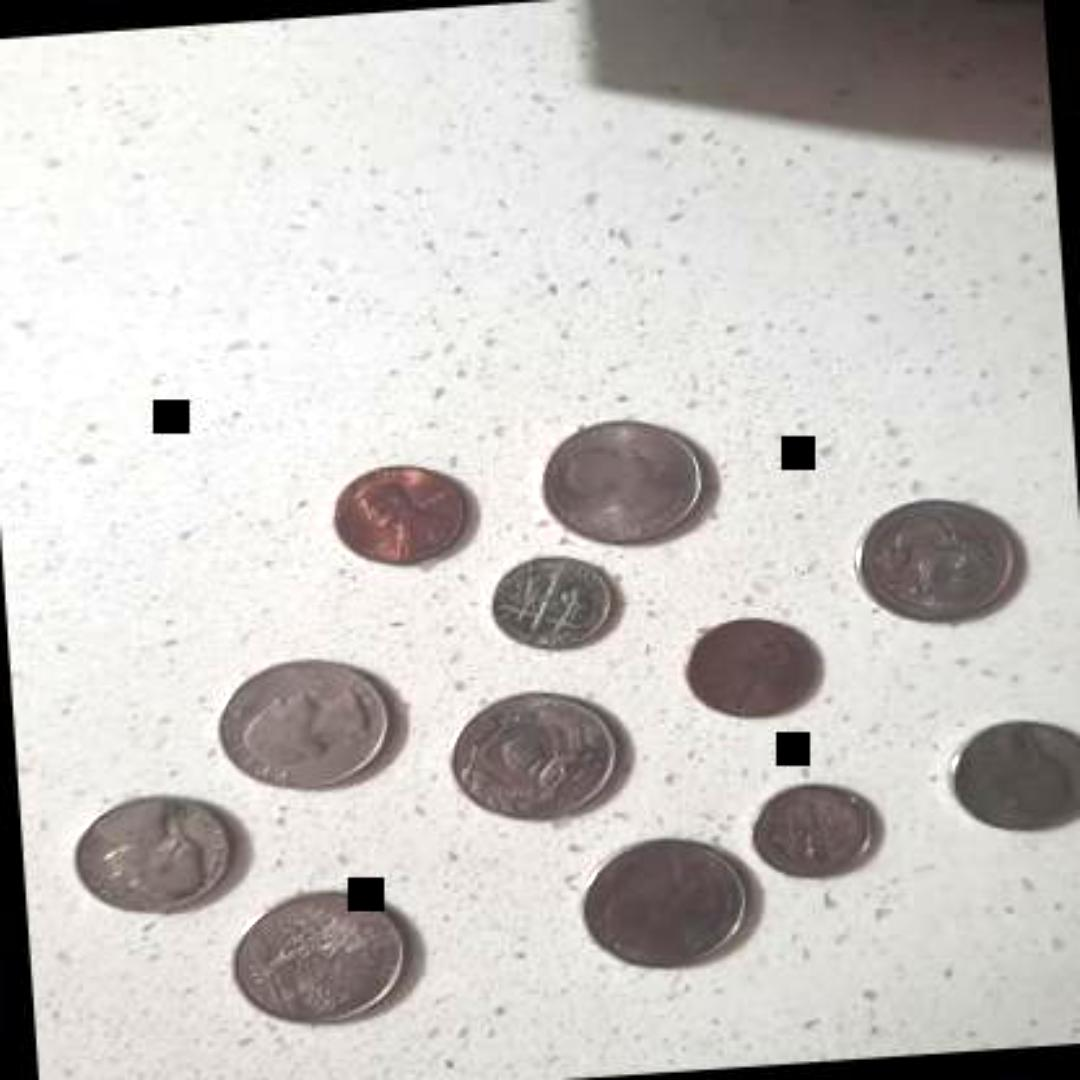Dime: (742, 765, 878, 887), (484, 546, 614, 650)
Nickel: (69, 784, 250, 926), (934, 706, 1080, 842)
Penny: (319, 454, 472, 572), (677, 608, 819, 724)
Quarter: (205, 643, 415, 803), (218, 874, 424, 1034), (530, 402, 726, 562), (444, 679, 636, 829), (836, 488, 1030, 634), (561, 828, 755, 974)
